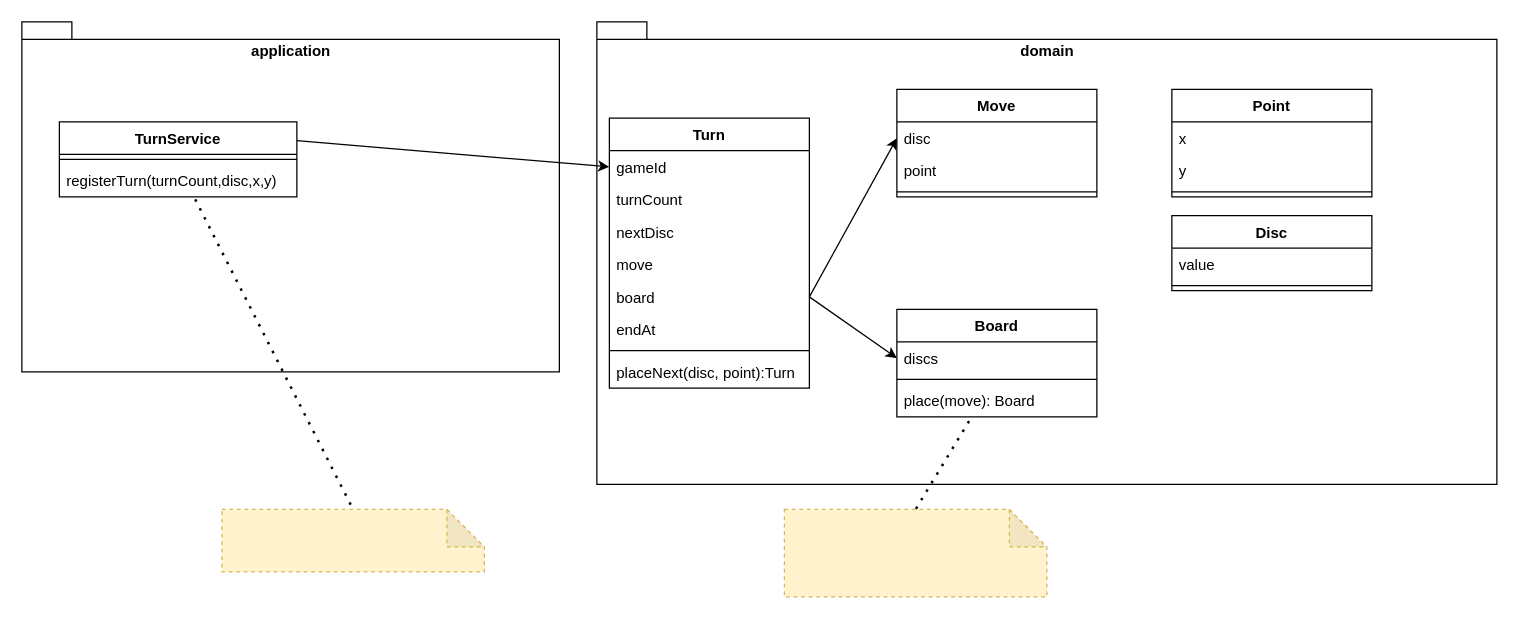
Some shapes in this 1519 by 619 pixel diagram are drawn without their labels. The shapes that lost their labels are listed below. From the top down, each one's centre as x and y in pixels, then its label:
the point at 352,540: ・１つ前のターンを取得する ・石を置く ・ターンを保存する
the point at 915,552: placeの内部では ・盤面に置けるかチェックする ・石を置く ・石をひっくり返す
